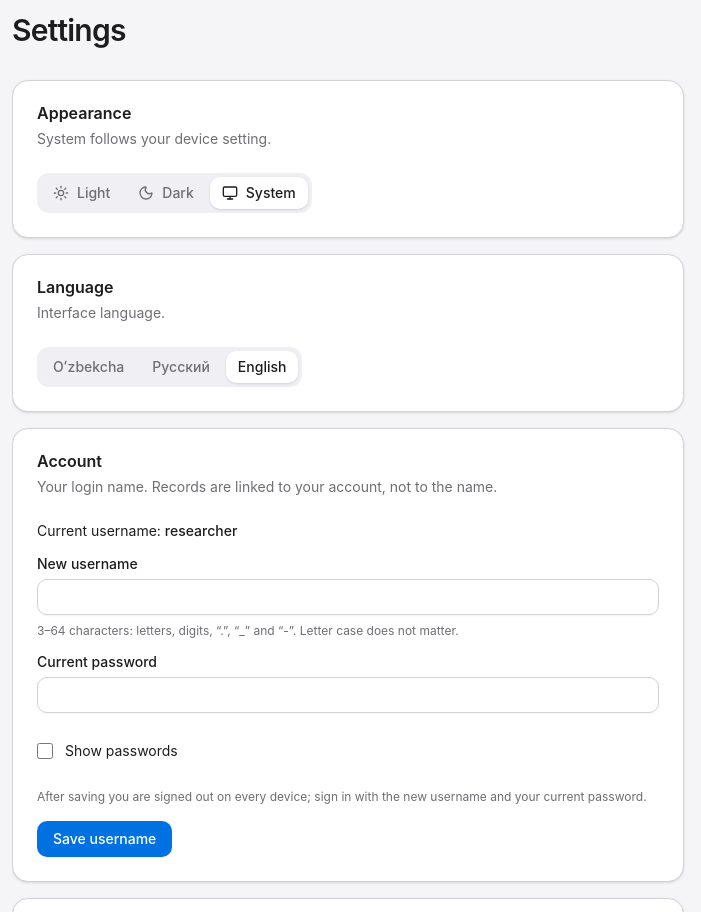
Test: Settings → Account: change username › shows a taken name next to the field, and throttling as a form error
Type "hunter" into the field labelled "New username" at (348, 597), box [37, 579, 659, 615]
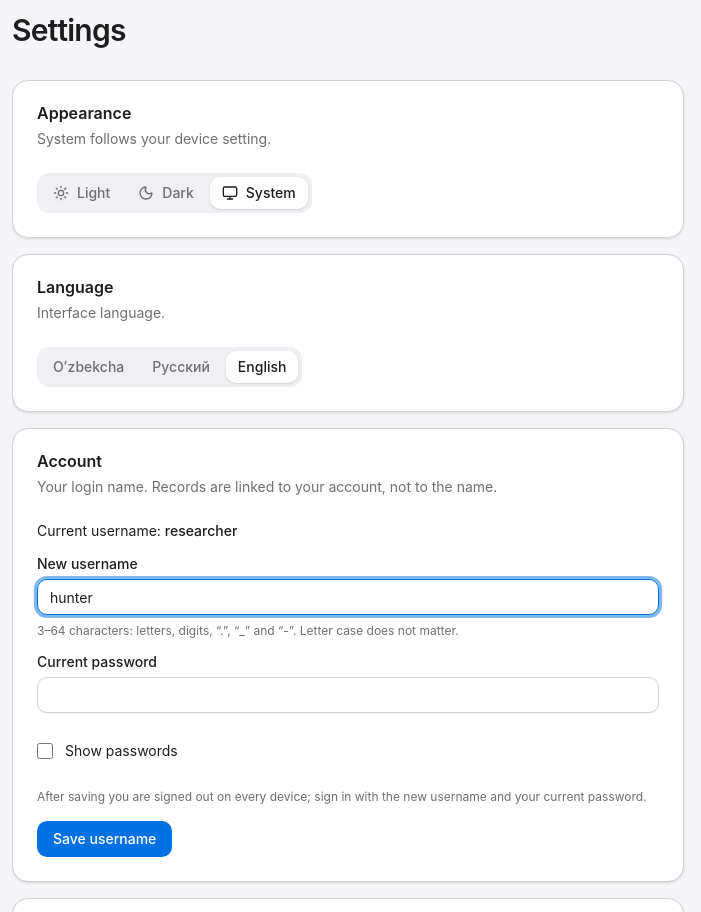
Type "current passphrase" into the password field labelled "Current password" at (348, 695), box [37, 677, 659, 713]
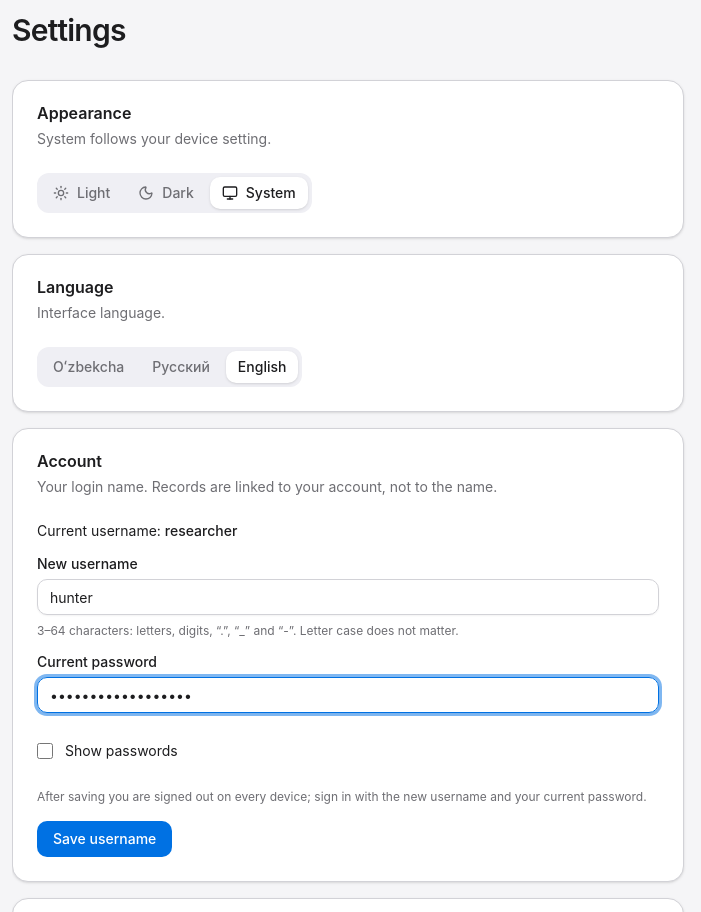
Click the button "Save username" at (105, 839), box [37, 821, 172, 857]
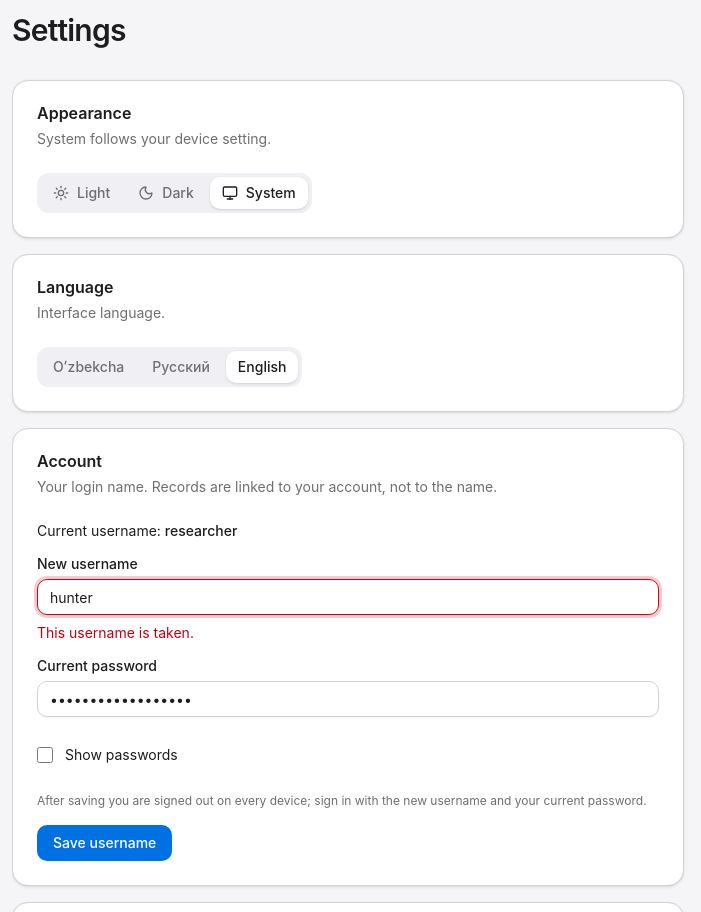
Expected: the text "This username is taken." is shown, [37, 624, 194, 641]
